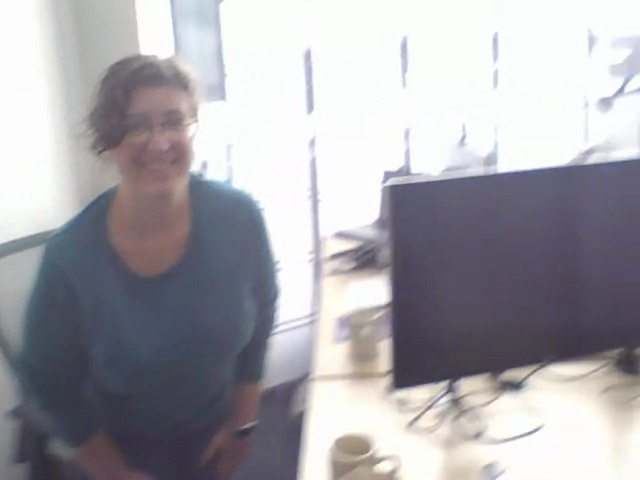face: (112, 84, 197, 195)
